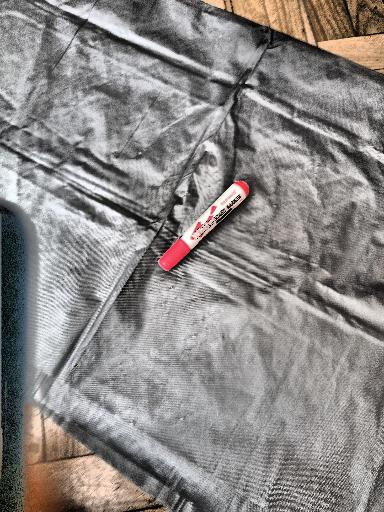marcador rojo: (159, 181, 249, 270)
